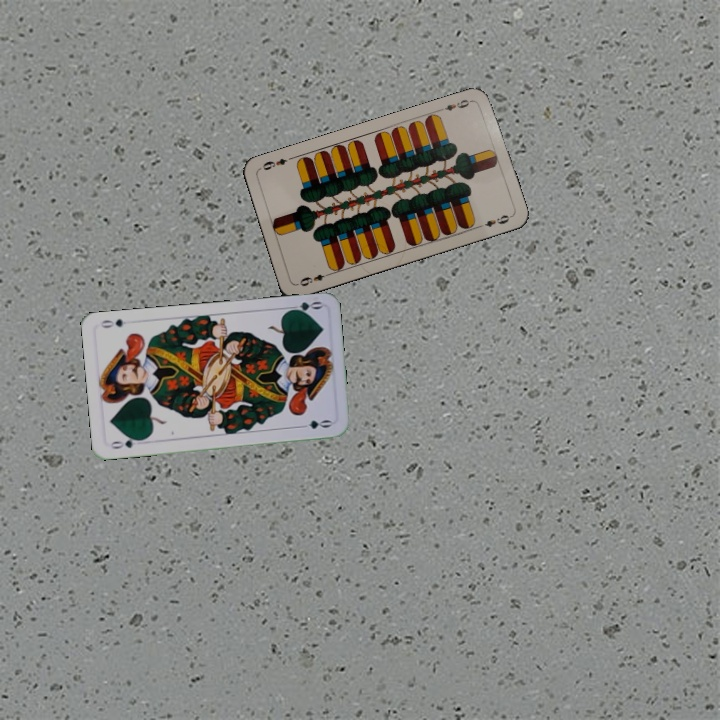E9: (294, 269, 333, 289), (436, 95, 476, 114)
GO: (283, 297, 324, 316), (106, 433, 146, 451)
